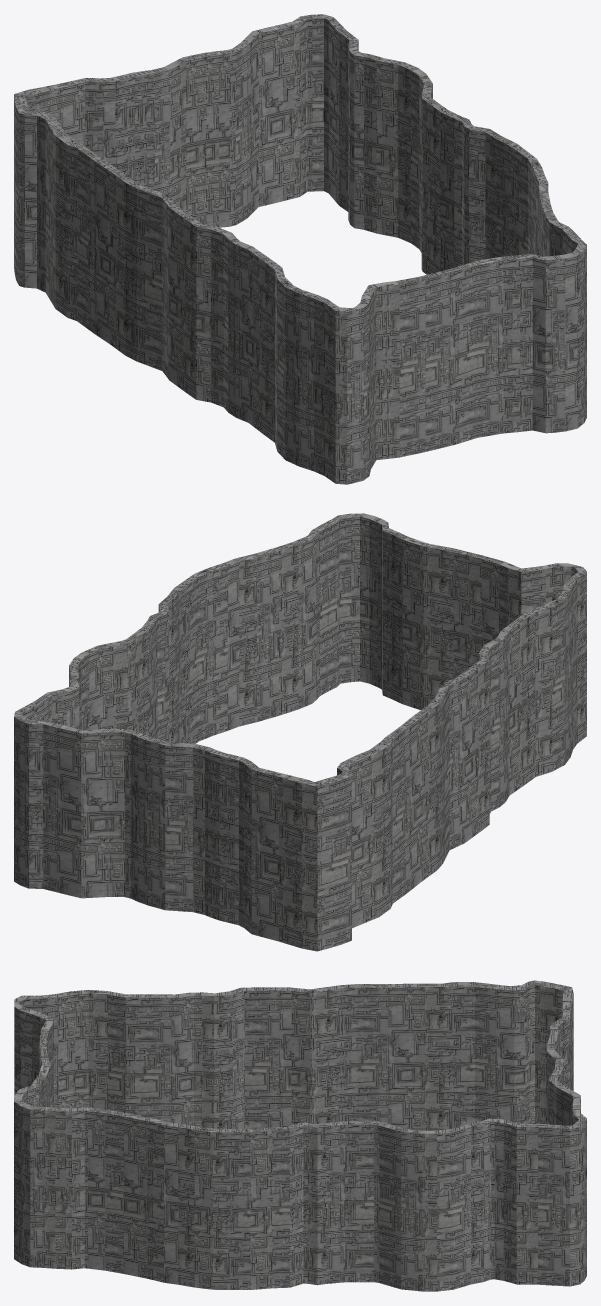
File: Area4_StickyLedge.fbx
The picture shows the model from 3 angles, top to bottom: view 1: azimuth 30°, elevation 25°; view 2: azimuth 150°, elevation 25°; view 3: azimuth 270°, elevation 25°; orthographic projection. The views are drawn at different scales.
Parts seen in each view (by area): view 1: Area4_StickyLedge; view 2: Area4_StickyLedge; view 3: Area4_StickyLedge.
Boxes of the visible parts, left/top/right/bottom form: Area4_StickyLedge: left=14, top=14, right=586, bottom=484; Area4_StickyLedge: left=14, top=513, right=586, bottom=951; Area4_StickyLedge: left=14, top=980, right=586, bottom=1291.
Size of the model in its own units: 1672 by 800 by 2636.
Materials: 1 (1 with a texture image).
